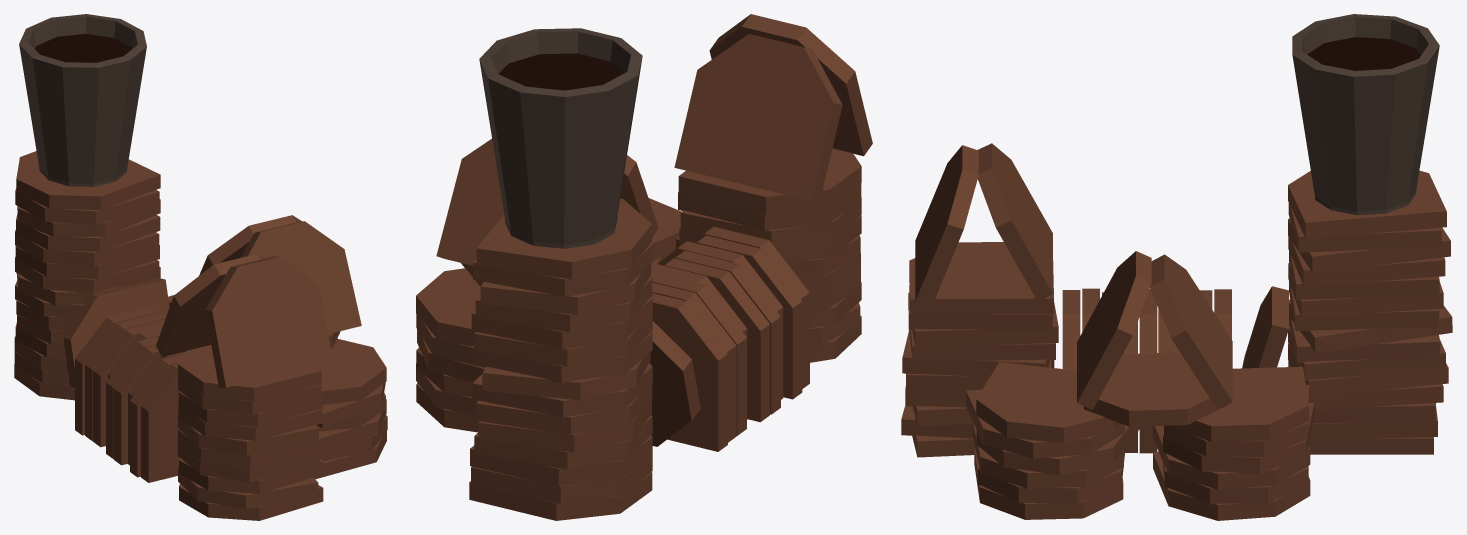
The model's file is wieza_herbata.obj.
3 renders of one model, left to right at view 1: azimuth 30°, elevation 25°; view 2: azimuth 150°, elevation 25°; view 3: azimuth 270°, elevation 25°, orthographic. The views are drawn at different scales.
Parts seen in each view (by area): view 1: Cube.011; view 2: Cube.011; view 3: Cube.011.
Part boxes in pixels (<box>): Cube.011: <box>14,14,387,520</box>; Cube.011: <box>416,14,872,520</box>; Cube.011: <box>901,14,1452,520</box>.
Bounding box in the file's own units: 5.93 × 8.25 × 10.67.
